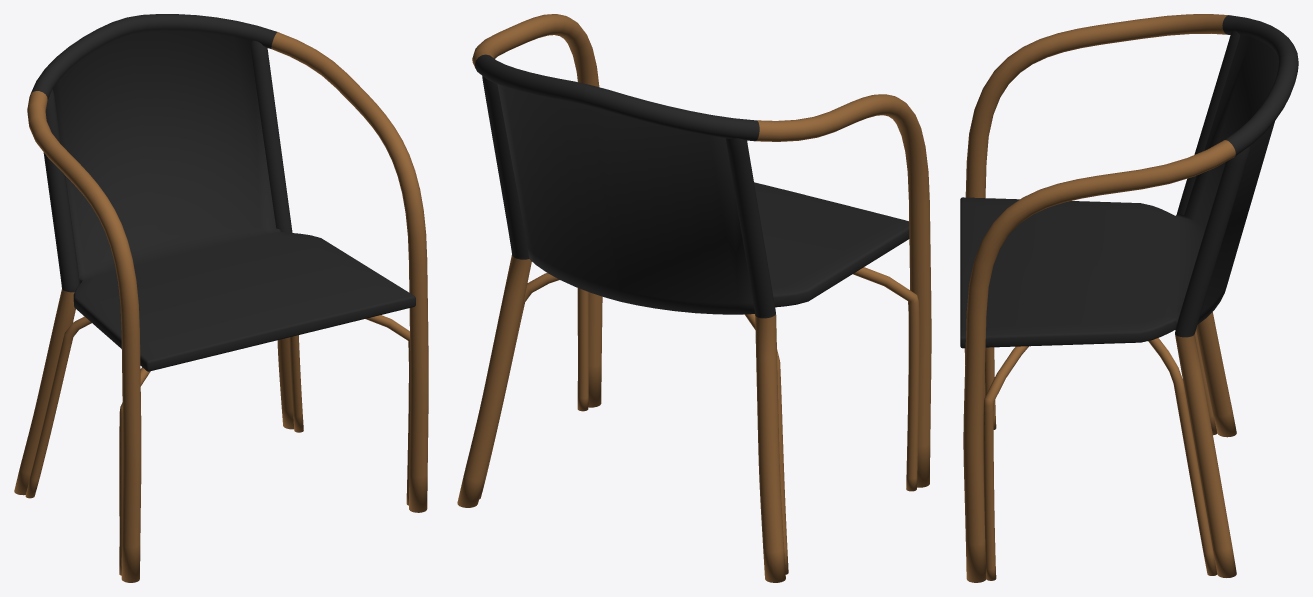
File: bg_chair1.fbx
3 renders of one model, left to right at view 1: azimuth 30°, elevation 25°; view 2: azimuth 150°, elevation 25°; view 3: azimuth 270°, elevation 25°, orthographic. The views are drawn at different scales.
Visible parts, largest first — view 1: chair1; view 2: chair1; view 3: chair1.
Boxes of the visible parts, x1,y1,x2,y2 form: chair1: [14, 14, 428, 582]; chair1: [457, 14, 931, 582]; chair1: [960, 14, 1298, 582].
Size of the model in its own units: 275 by 363 by 248.
